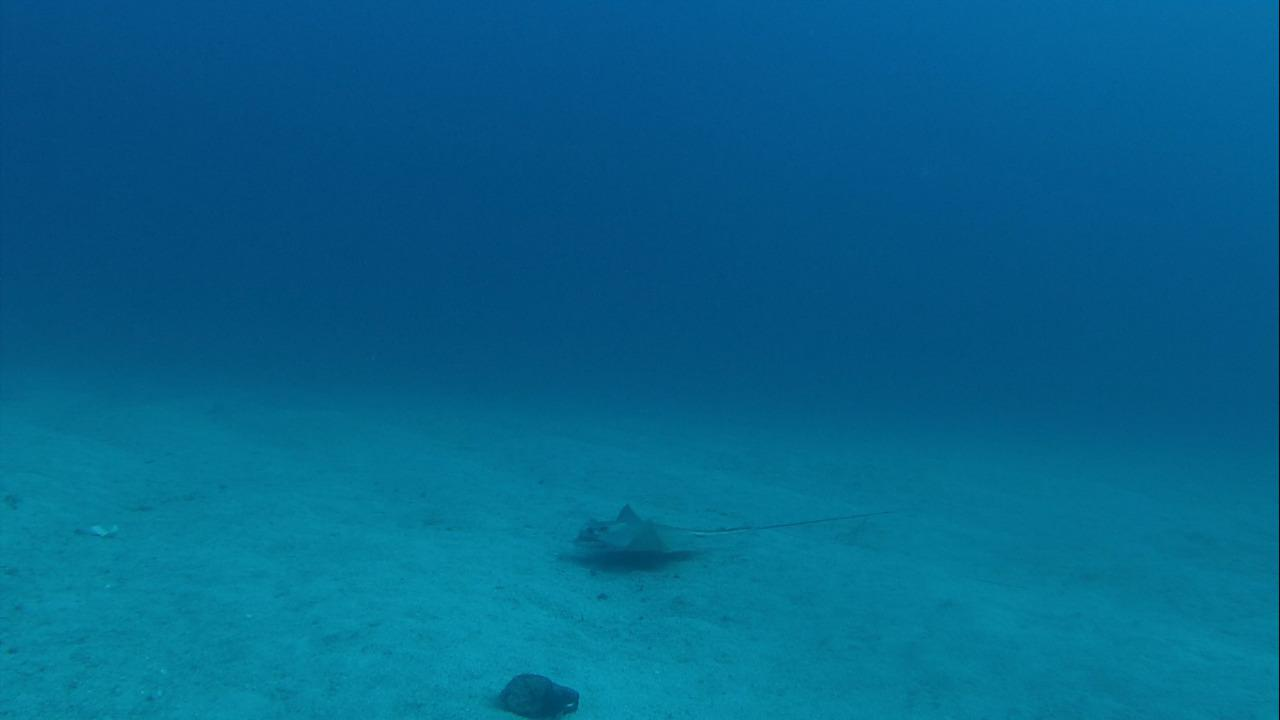myliobatis: (560, 499, 901, 560)
